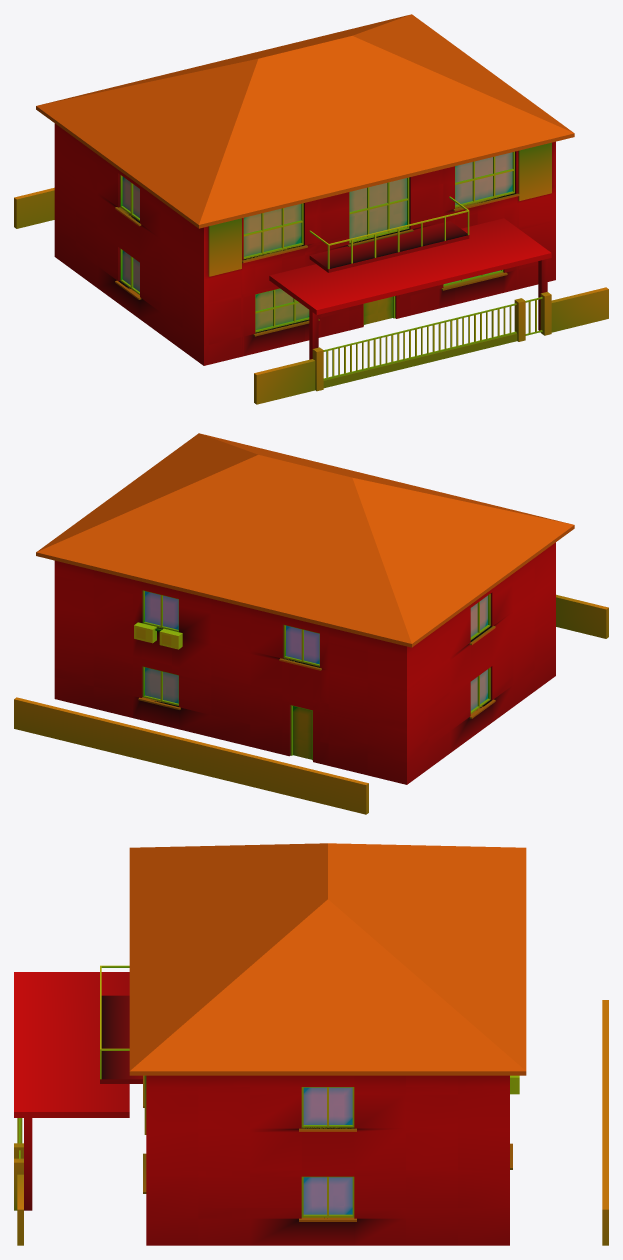
Rendered from bungalow.glb.
The picture shows the model from 3 angles, top to bottom: view 1: azimuth 30°, elevation 25°; view 2: azimuth 150°, elevation 25°; view 3: azimuth 270°, elevation 25°; orthographic projection. The views are drawn at different scales.
Parts seen in each view (by area): view 1: bungalow__hip__LOD0; view 2: bungalow__hip__LOD0; view 3: bungalow__hip__LOD0.
Boxes of the visible parts, x1,y1,x2,y2 form: bungalow__hip__LOD0: (14,14,608,404); bungalow__hip__LOD0: (14,433,608,814); bungalow__hip__LOD0: (14,843,608,1245).
Size of what is drawn, in the model's own units: 16 by 9 by 18.
